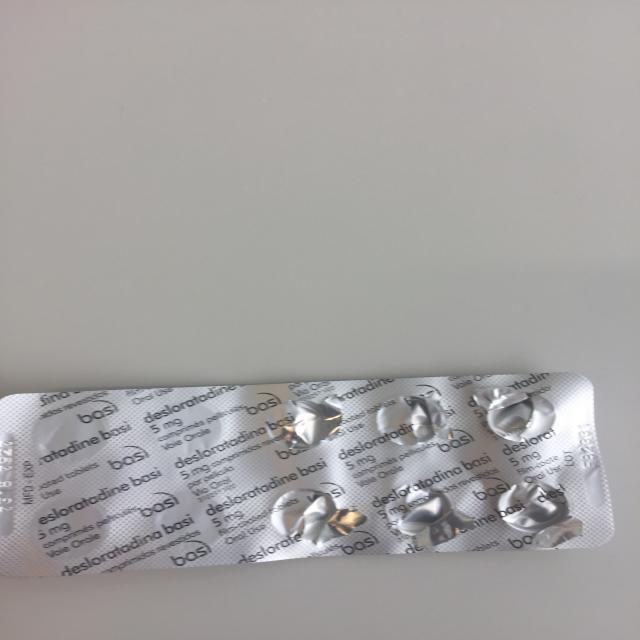Empty: (266, 486, 356, 549), (473, 386, 563, 449), (495, 480, 580, 544), (258, 394, 346, 451), (376, 484, 460, 542), (371, 394, 454, 449)
Pill: (25, 498, 116, 562), (138, 402, 231, 460), (148, 492, 234, 551), (30, 405, 114, 464)
